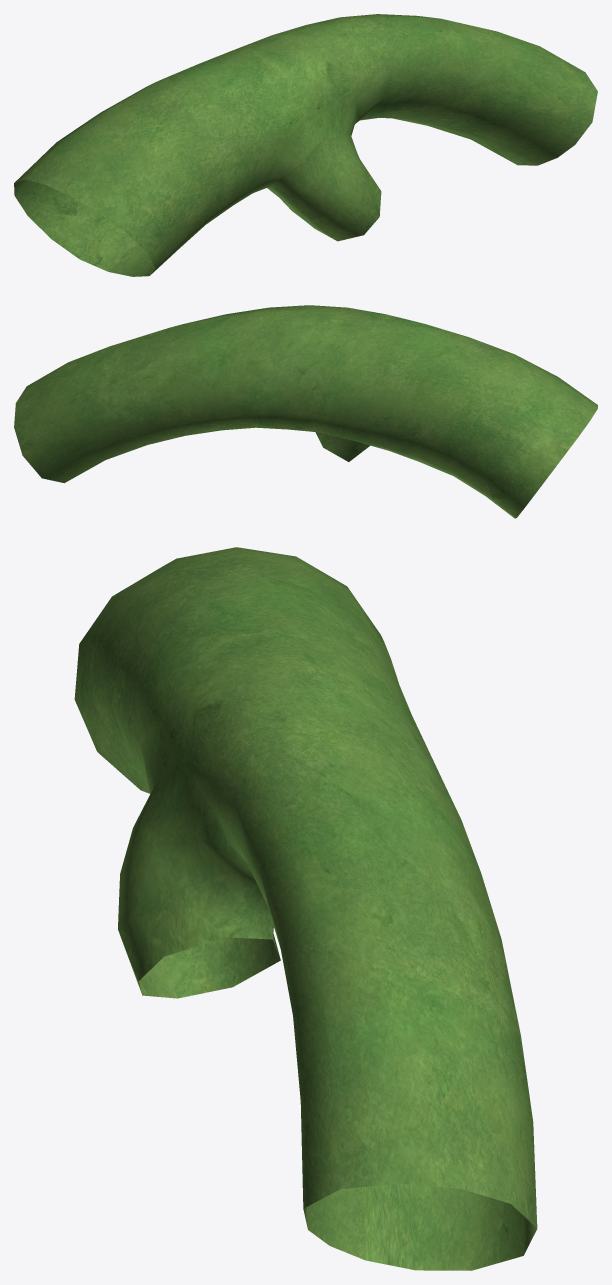
The model's file is SM_ENV_KNFRST_Roots_B.FBX.
3 views of the same model, one above another, from view 1: azimuth 30°, elevation 25°; view 2: azimuth 150°, elevation 25°; view 3: azimuth 270°, elevation 25° (orthographic). The views are drawn at different scales.
Parts seen in each view (by area): view 1: SM_ENV_KNFRST_Roots_B; view 2: SM_ENV_KNFRST_Roots_B; view 3: SM_ENV_KNFRST_Roots_B.
Boxes of the visible parts, <box> form: SM_ENV_KNFRST_Roots_B: <box>14,14,597,276</box>; SM_ENV_KNFRST_Roots_B: <box>14,305,597,518</box>; SM_ENV_KNFRST_Roots_B: <box>74,547,537,1270</box>.
Size of the model in its own units: 788 by 276 by 302.
